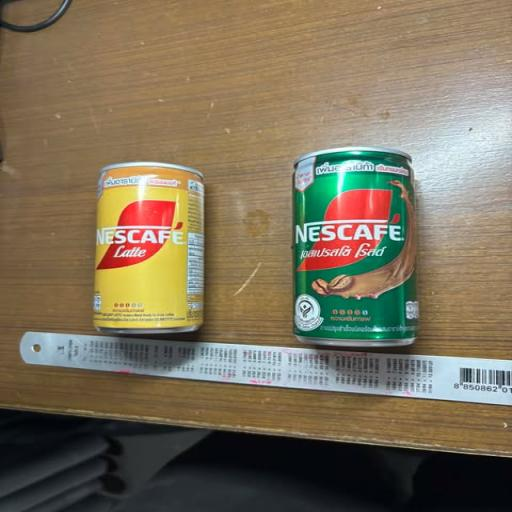canned: (267, 135, 453, 361), (60, 142, 237, 345)
